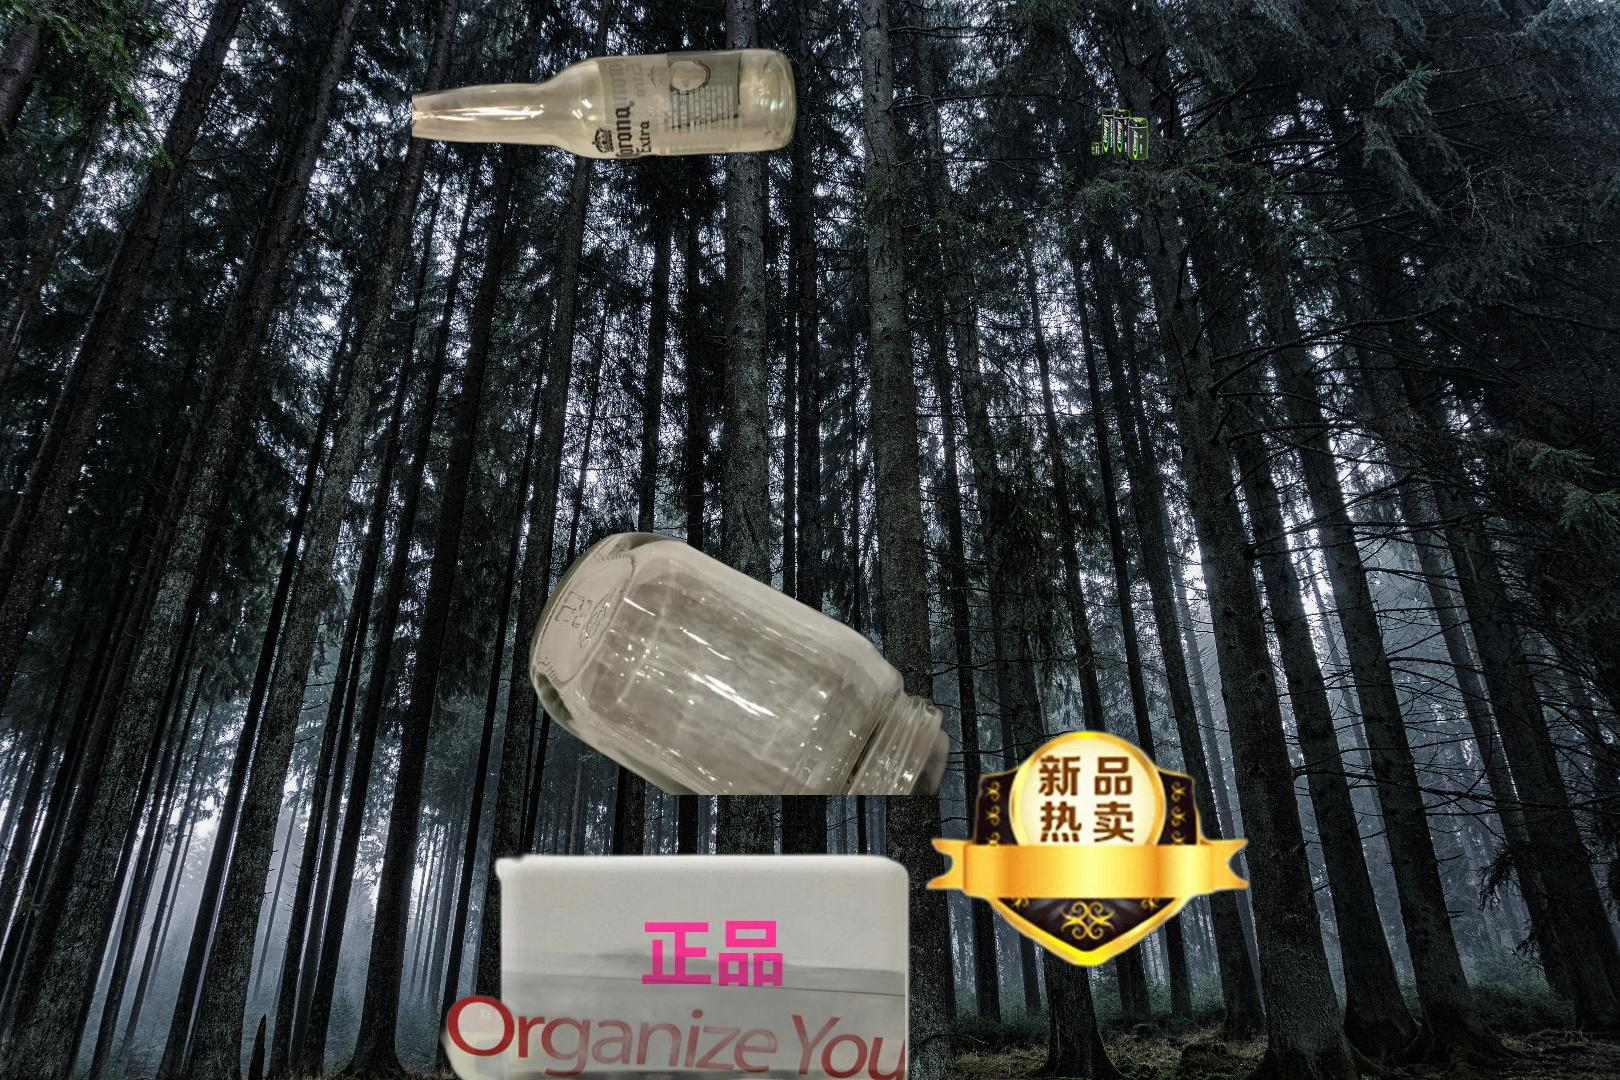battery: (352, 722, 1252, 1080), (1088, 105, 1151, 163)
glass: (524, 528, 955, 796), (412, 45, 802, 162)
paper: (393, 865, 905, 1080)
